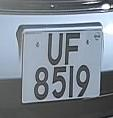1: (67, 64, 77, 101)
5: (50, 65, 68, 101)
8: (31, 66, 50, 102)
9: (74, 64, 92, 100)
F: (65, 29, 83, 67)
U: (44, 31, 65, 68)
